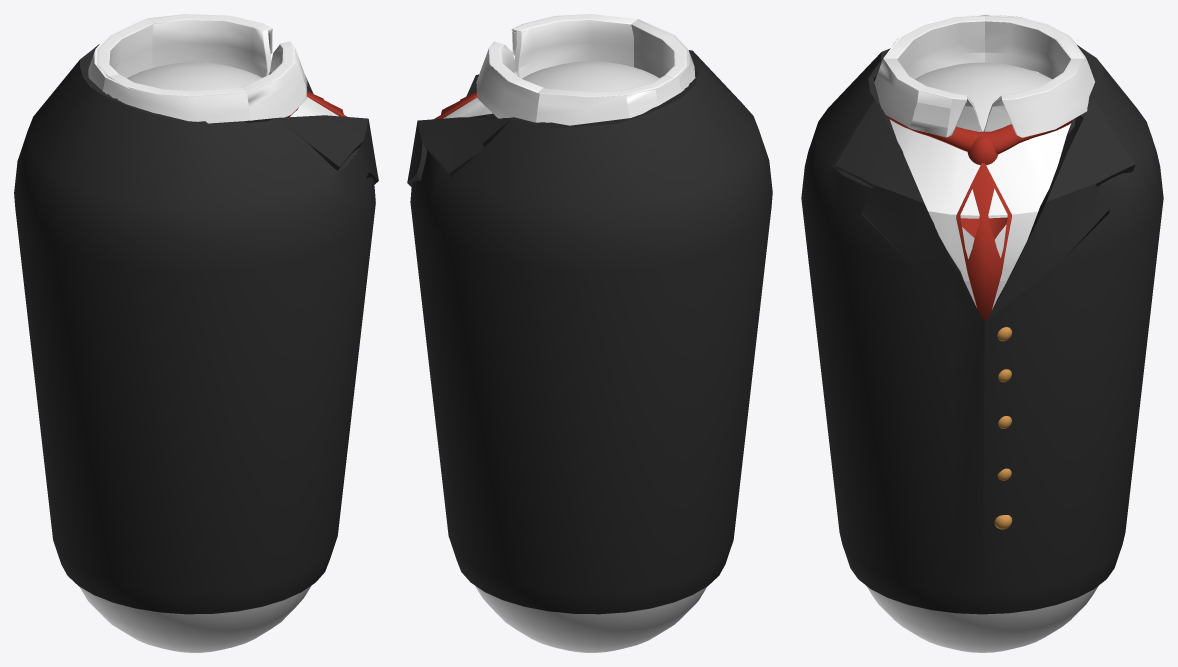
File: formalBodyFBX.fbx
3 renders of one model, left to right at view 1: azimuth 30°, elevation 25°; view 2: azimuth 150°, elevation 25°; view 3: azimuth 270°, elevation 25°, orthographic.
Parts seen in each view (by area): view 1: Sphere.004, Sphere, Cube.003, Cube.002, Cube.008; view 2: Sphere.004, Sphere, Cube.003, Cube.002, Cube.008; view 3: Sphere.004, Cube.003, Sphere, Cube.002, Cube.012, Cube.008, Torus, Sphere.003.
Boxes of the visible parts, bbox=[...] form: Sphere.004: bbox=[14, 44, 378, 614]; Sphere: bbox=[79, 62, 310, 652]; Cube.003: bbox=[109, 20, 338, 117]; Cube.002: bbox=[88, 18, 307, 123]; Cube.008: bbox=[97, 14, 294, 96]; Sphere.004: bbox=[407, 50, 772, 614]; Sphere: bbox=[475, 61, 706, 652]; Cube.003: bbox=[443, 20, 674, 118]; Cube.002: bbox=[476, 17, 695, 125]; Cube.008: bbox=[489, 14, 686, 97]; Sphere.004: bbox=[801, 45, 1163, 614]; Cube.003: bbox=[890, 21, 1071, 309]; Sphere: bbox=[866, 62, 1098, 652]; Cube.002: bbox=[874, 14, 1094, 137]; Cube.012: bbox=[956, 163, 1011, 320]; Cube.008: bbox=[884, 15, 1084, 102]; Torus: bbox=[881, 108, 1076, 154]; Sphere.003: bbox=[967, 136, 997, 165].
Size of the model in its own units: 273 by 475 by 267.
